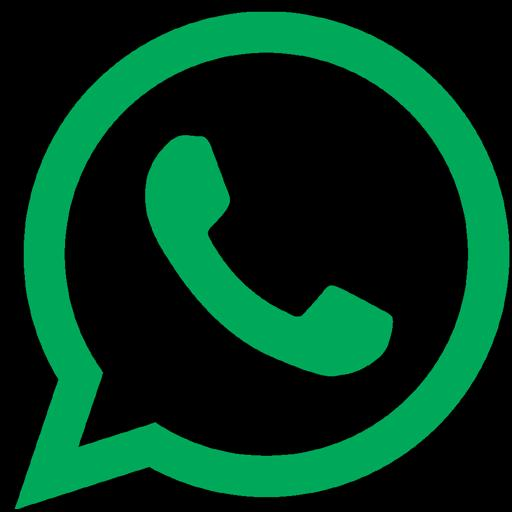WhatsApp: (0, 2, 512, 509)
